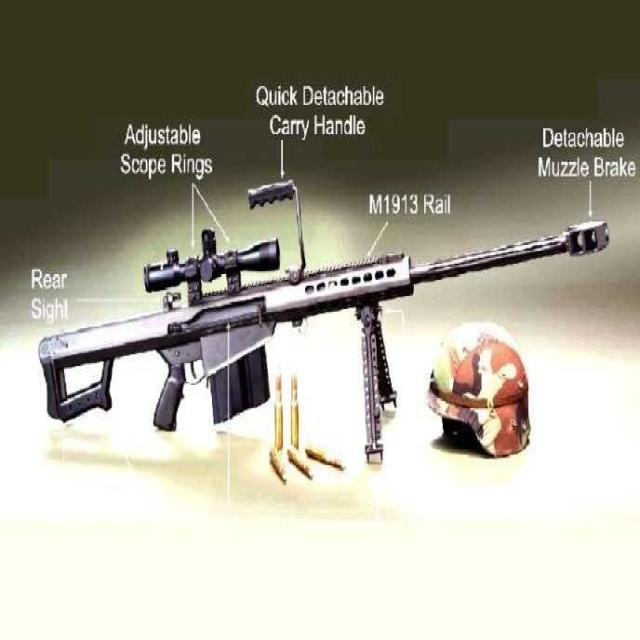heavyweapon: (27, 176, 623, 443)
